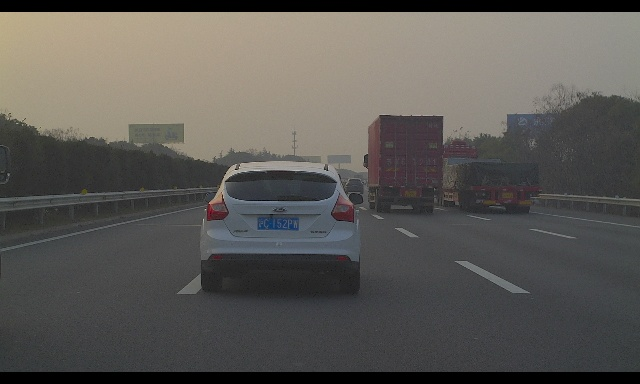car: (199, 161, 364, 294), (344, 177, 364, 194), (360, 180, 366, 185)
truck: (433, 140, 543, 214), (363, 114, 444, 213), (354, 174, 363, 185)
